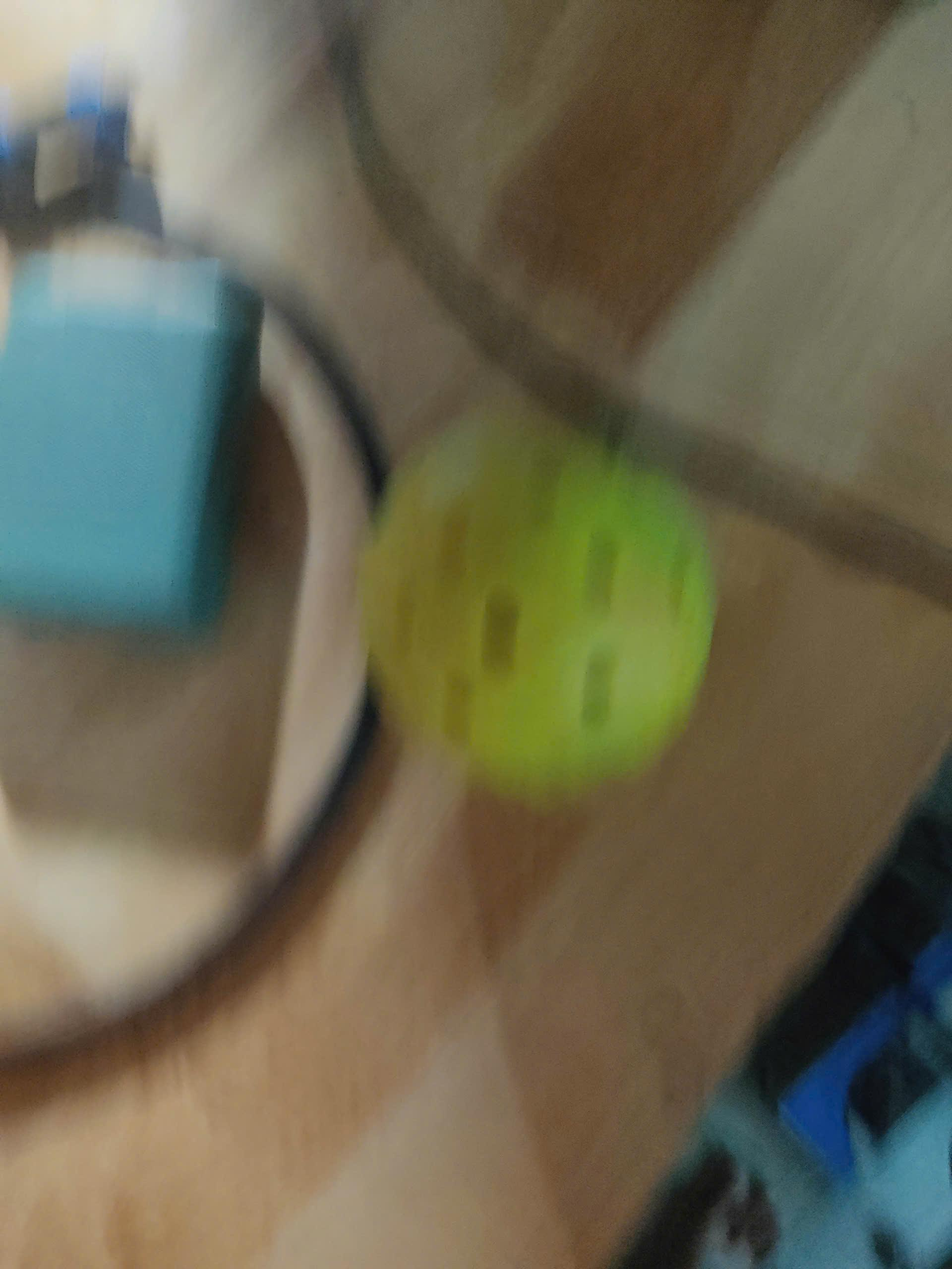ball: (332, 397, 730, 823)
